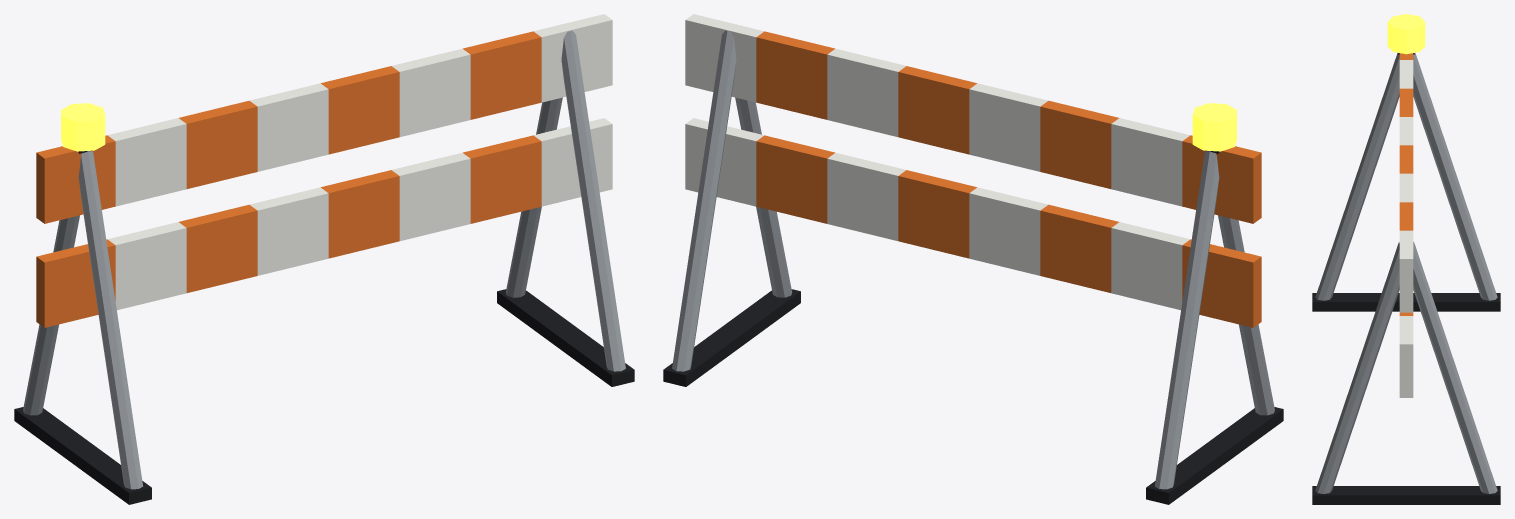
Rendered from PD_Barricade.fbx.
3 views of the same model, side by side, from view 1: azimuth 30°, elevation 25°; view 2: azimuth 150°, elevation 25°; view 3: azimuth 270°, elevation 25° (orthographic). The views are drawn at different scales.
Visible parts, largest first — view 1: PD_Barricade_Mesh; view 2: PD_Barricade_Mesh; view 3: PD_Barricade_Mesh.
Part boxes in pixels (x1,y1,x2,y2): PD_Barricade_Mesh: (14,14,634,504); PD_Barricade_Mesh: (663,14,1283,504); PD_Barricade_Mesh: (1312,14,1500,504).
Bounding box in the file's own units: 2 × 1.18 × 0.7.
